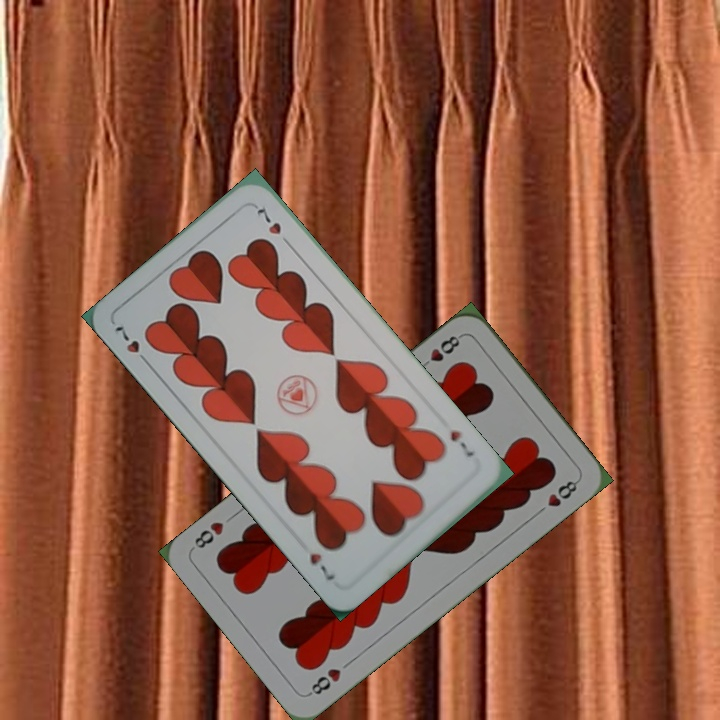H7: (110, 322, 154, 369), (446, 426, 477, 460)
H8: (415, 330, 465, 373), (304, 664, 344, 699)
